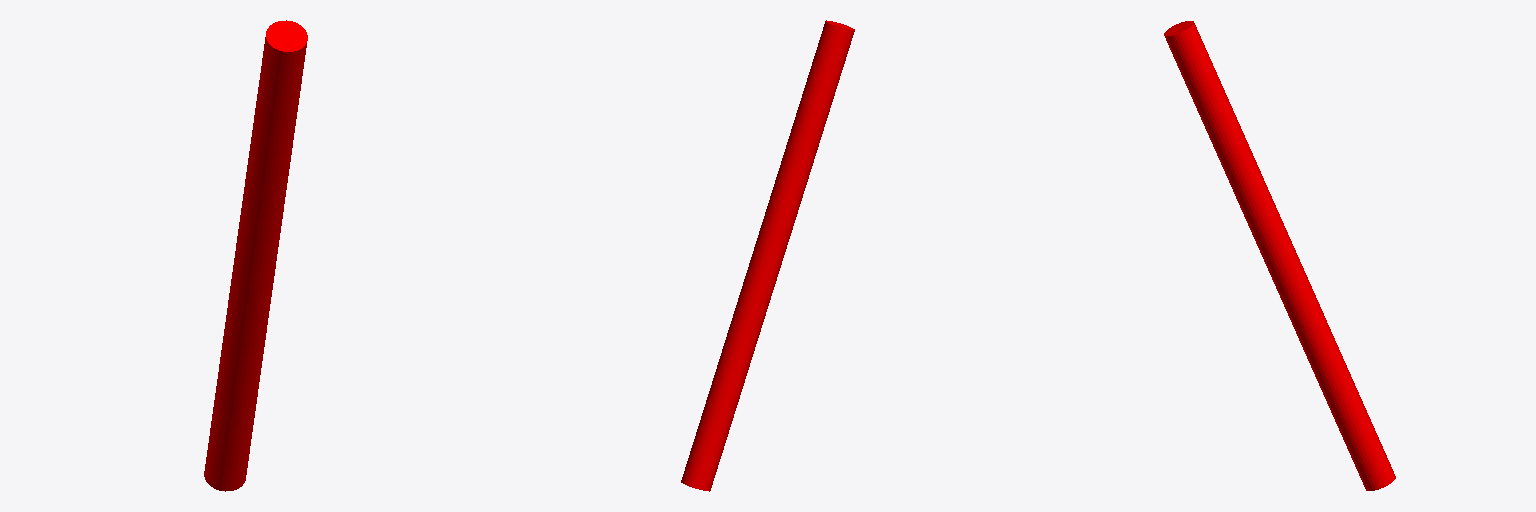
URDF robot description (tree_93.urdf):
<?xml version='1.0' encoding='utf-8'?>
<robot name="tree_93.urdf">
  <link name="branch_0">
    <inertial>
      <origin xyz="0.0 0.0 0.0" rpy="0.0 -0.0 0.0" />
      <mass value="1.0" />
      <inertia ixx="1.0" ixy="0.0" ixz="0.0" iyy="1.0" iyz="0.0" izz="1.0" />
    </inertial>
    <visual name="branch_0_visual">
      <geometry>
        <cylinder radius="0.06912409635827271" length="2.1775343724871927" />
      </geometry>
      <material name="semantic_material" />
      <origin xyz="-0.1280747195684378 -0.4239713489596983 0.9946150749458597" rpy="0.0 0.41893150225140174 -1.8641634277544423" />
    </visual>
    <collision name="branch_0_collision">
      <geometry>
        <cylinder radius="0.06912409635827271" length="2.1775343724871927" />
      </geometry>
      <origin xyz="-0.1280747195684378 -0.4239713489596983 0.9946150749458597" rpy="0.0 0.41893150225140174 -1.8641634277544423" />
    </collision>
  </link>
  <material name="semantic_material">
    <color rgba="1. 0. 0. 1." />
  </material>
</robot>

--- Render facts (derived) ---
Views: 3 orthographic renders of the robot side by side, from view 1: azimuth 30°, elevation 25°; view 2: azimuth 150°, elevation 25°; view 3: azimuth 270°, elevation 25°.
Model tree_93.urdf with 1 links and 0 joints (none), rooted at branch_0, posed every joint at zero.
Visible links, largest first — view 1: branch_0; view 2: branch_0; view 3: branch_0.
Link boxes in pixels (x1,y1,x2,y2): branch_0: (204,20,307,491); branch_0: (681,20,854,491); branch_0: (1164,21,1395,490).
Bounding box of the posed robot: 0.3931 × 0.9749 × 2.05 m (x, y, z).
Geometry: primitives only (box / cylinder / sphere), no mesh files.